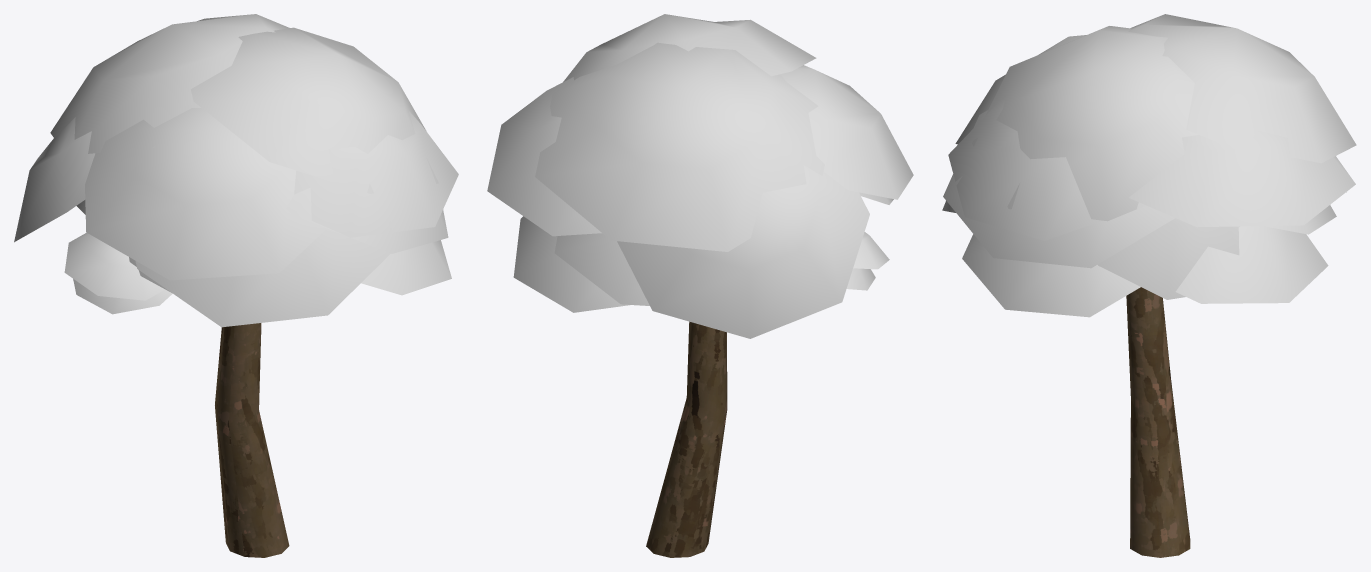
Rendered from tree_1.glb.
3 views of the same model, side by side, from view 1: azimuth 30°, elevation 25°; view 2: azimuth 150°, elevation 25°; view 3: azimuth 270°, elevation 25° (orthographic).
Visible parts, largest first — view 1: Tree_1; view 2: Tree_1; view 3: Tree_1.
Part boxes in pixels (x1,y1,x2,y2): Tree_1: (14, 14, 458, 557); Tree_1: (487, 14, 913, 557); Tree_1: (942, 14, 1356, 557).
Size of the model in its own units: 2.07 by 2.77 by 2.07.
2 materials, 1 textured.
